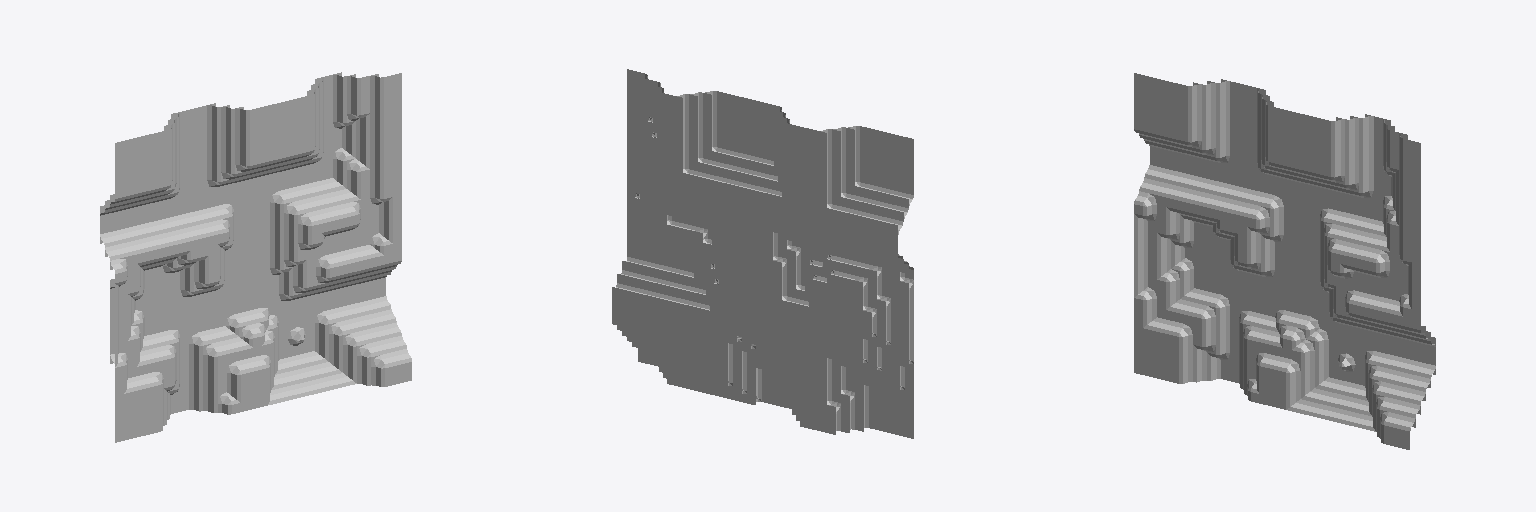
File: Victory-Road-2_01_01.obj
3 views of the same model, side by side, from view 1: azimuth 30°, elevation 25°; view 2: azimuth 150°, elevation 25°; view 3: azimuth 330°, elevation 25° (orthographic).
Parts seen in each view (by area): view 1: map; view 2: map; view 3: map.
Part boxes in pixels (left/top/right/bottom): map: left=100, top=72, right=411, bottom=442; map: left=612, top=69, right=913, bottom=438; map: left=1134, top=73, right=1435, bottom=449.
Size of the model in its own units: 32 by 32 by 5.